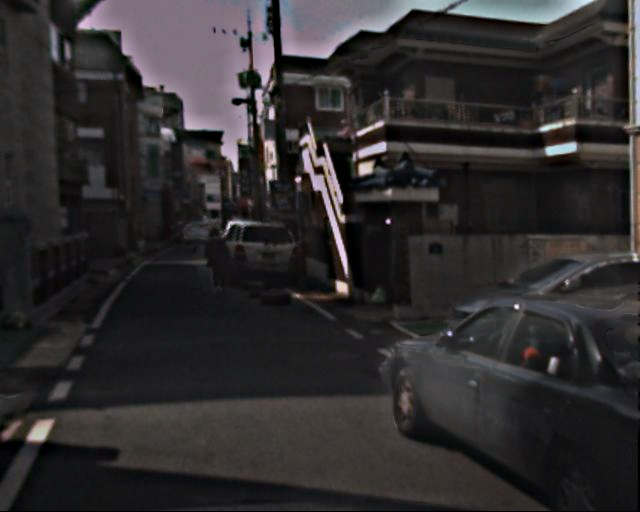person: (200, 225, 229, 295)
